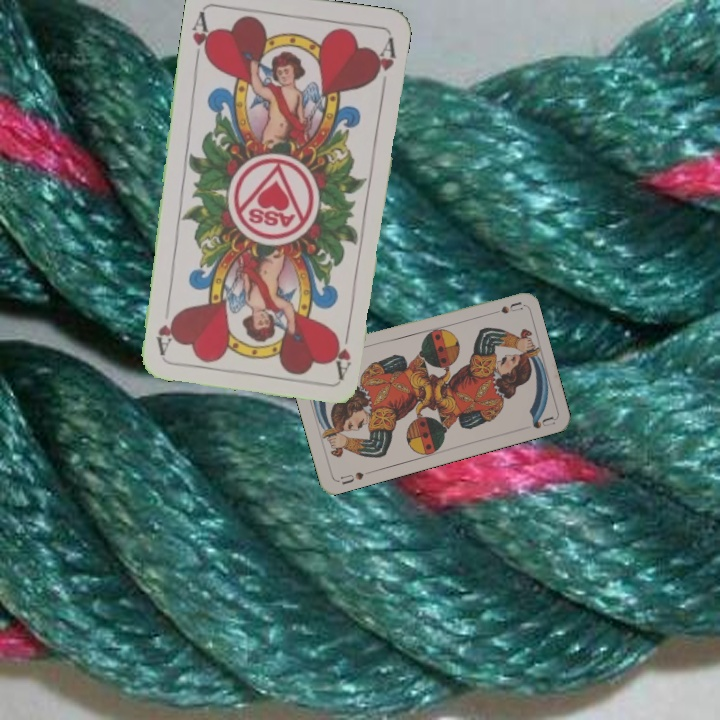HA: (188, 7, 215, 66), (328, 320, 354, 379)
SU: (483, 298, 524, 318), (336, 467, 373, 487)
